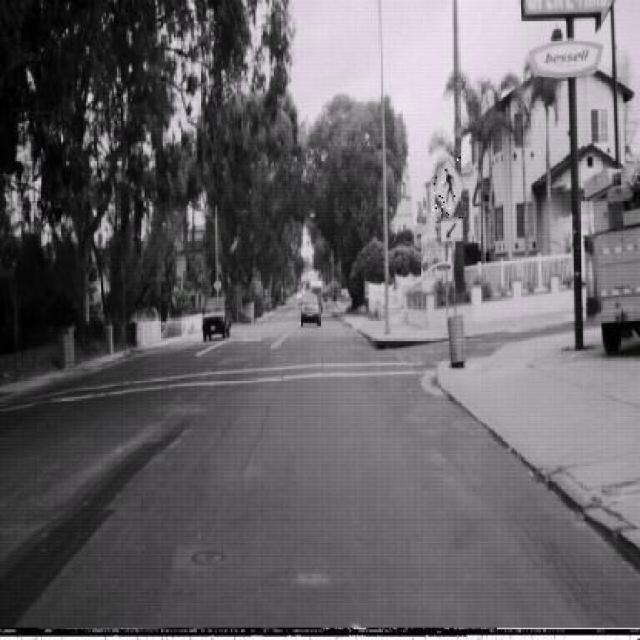pedestrianCrossing: (432, 156, 464, 220)
